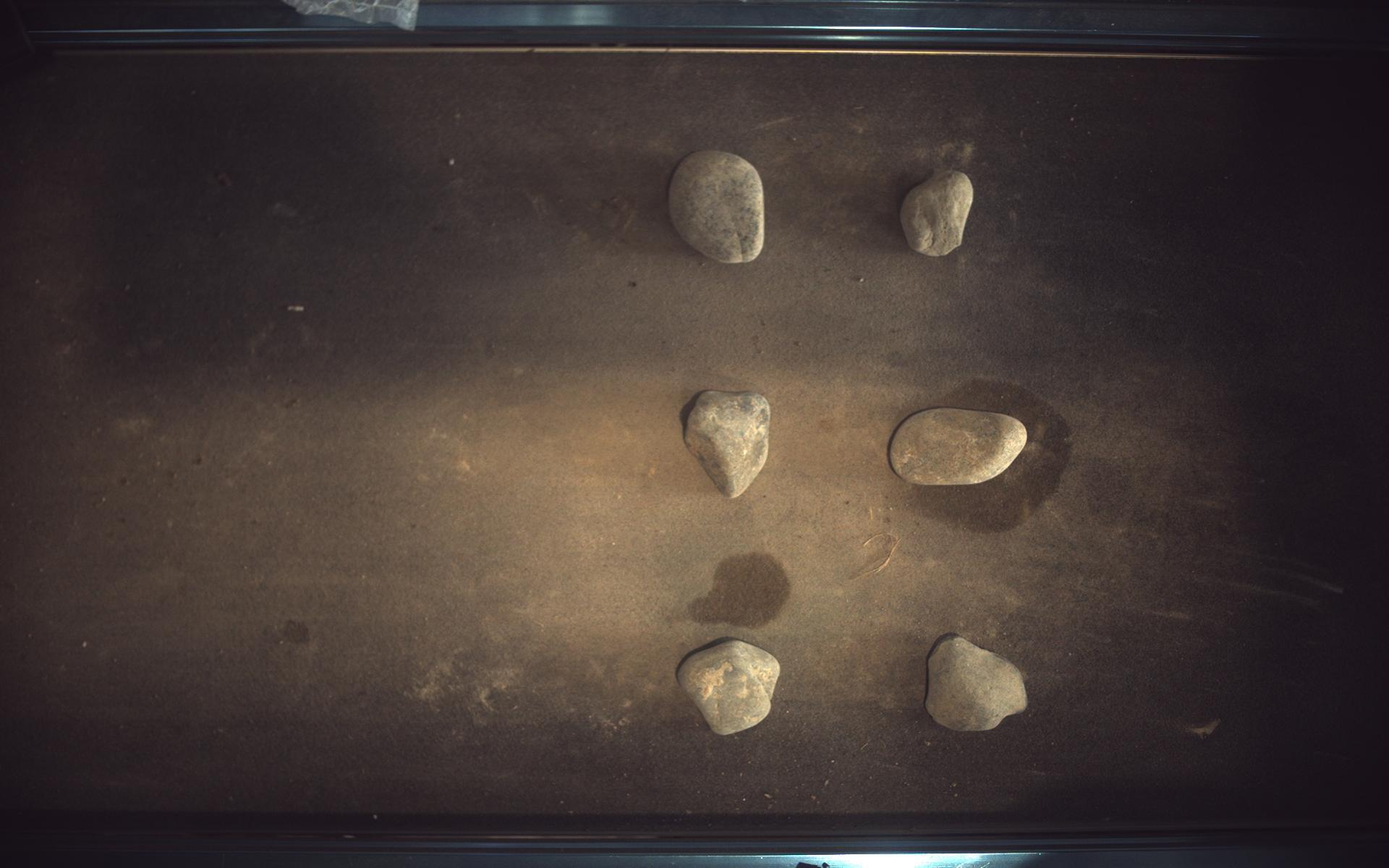stone: (670, 150, 765, 263), (892, 408, 1029, 485), (678, 641, 781, 736), (928, 637, 1029, 732), (686, 391, 771, 498), (902, 170, 975, 255)
